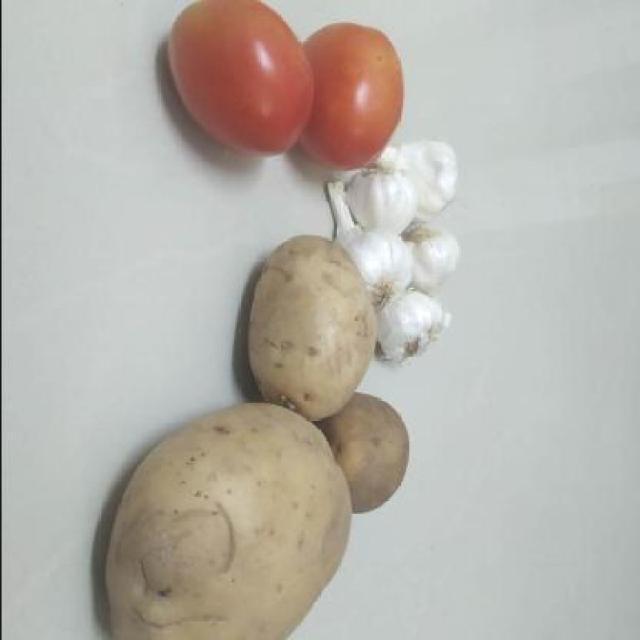Garlic: (377, 286, 446, 369), (396, 216, 464, 290), (400, 140, 458, 220)
Potato: (101, 401, 355, 640), (240, 228, 372, 416), (334, 383, 411, 519)
Tomato: (141, 0, 313, 158), (294, 21, 402, 174)
